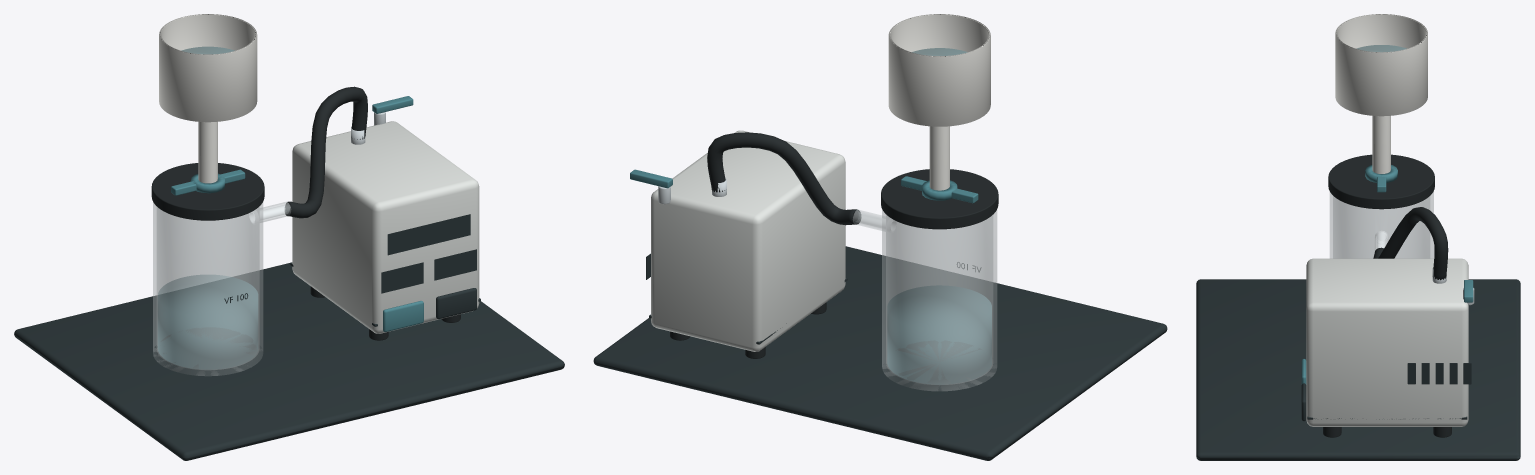
Rendered from preview.glb.
3 views of the same model, side by side, from view 1: azimuth 30°, elevation 25°; view 2: azimuth 150°, elevation 25°; view 3: azimuth 270°, elevation 25° (orthographic). The views are drawn at different scales.
Visible parts, largest first — view 1: Kit base, Enamel enclosure, Hollow fused vacuum sidearm, Open funnel stem, Receiver liquid, Continuous vacuum hose, Live LCD surface, Vacuum key.001, Vacuum key, Live LCD surface.002, Live LCD surface.001, Seal collet; view 2: Kit base, Enamel enclosure, Hollow fused vacuum sidearm, Open funnel stem, Receiver liquid, Continuous vacuum hose, Seal collet; view 3: Kit base, Enamel enclosure, Open funnel stem, Continuous vacuum hose, Hollow fused vacuum sidearm, Lower seam, Seal collet, Isolator foot.
Part boxes in pixels (bbox=[...]): Kit base: bbox=[14, 262, 564, 460]; Enamel enclosure: bbox=[292, 121, 479, 333]; Hollow fused vacuum sidearm: bbox=[153, 201, 290, 375]; Open funnel stem: bbox=[159, 14, 257, 183]; Receiver liquid: bbox=[158, 275, 257, 369]; Continuous vacuum hose: bbox=[151, 86, 367, 220]; Live LCD surface: bbox=[387, 214, 470, 255]; Vacuum key.001: bbox=[436, 288, 476, 319]; Vacuum key: bbox=[383, 301, 423, 331]; Live LCD surface.002: bbox=[434, 249, 476, 280]; Live LCD surface.001: bbox=[381, 262, 423, 293]; Seal collet: bbox=[171, 169, 245, 195]; Kit base: bbox=[593, 246, 1167, 460]; Enamel enclosure: bbox=[651, 130, 845, 351]; Hollow fused vacuum sidearm: bbox=[853, 209, 997, 391]; Open funnel stem: bbox=[888, 14, 990, 190]; Receiver liquid: bbox=[887, 285, 991, 384]; Continuous vacuum hose: bbox=[707, 132, 998, 229]; Seal collet: bbox=[901, 176, 978, 203]; Kit base: bbox=[1196, 279, 1520, 460]; Enamel enclosure: bbox=[1306, 258, 1468, 426]; Open funnel stem: bbox=[1335, 14, 1427, 173]; Continuous vacuum hose: bbox=[1328, 154, 1448, 280]; Hollow fused vacuum sidearm: bbox=[1329, 191, 1433, 258]; Lower seam: bbox=[1307, 363, 1471, 419]; Seal collet: bbox=[1365, 165, 1397, 192]; Isolator foot: bbox=[1323, 427, 1451, 437].
Bounding box in the file's own units: 0.36 × 0.294 × 0.28.
